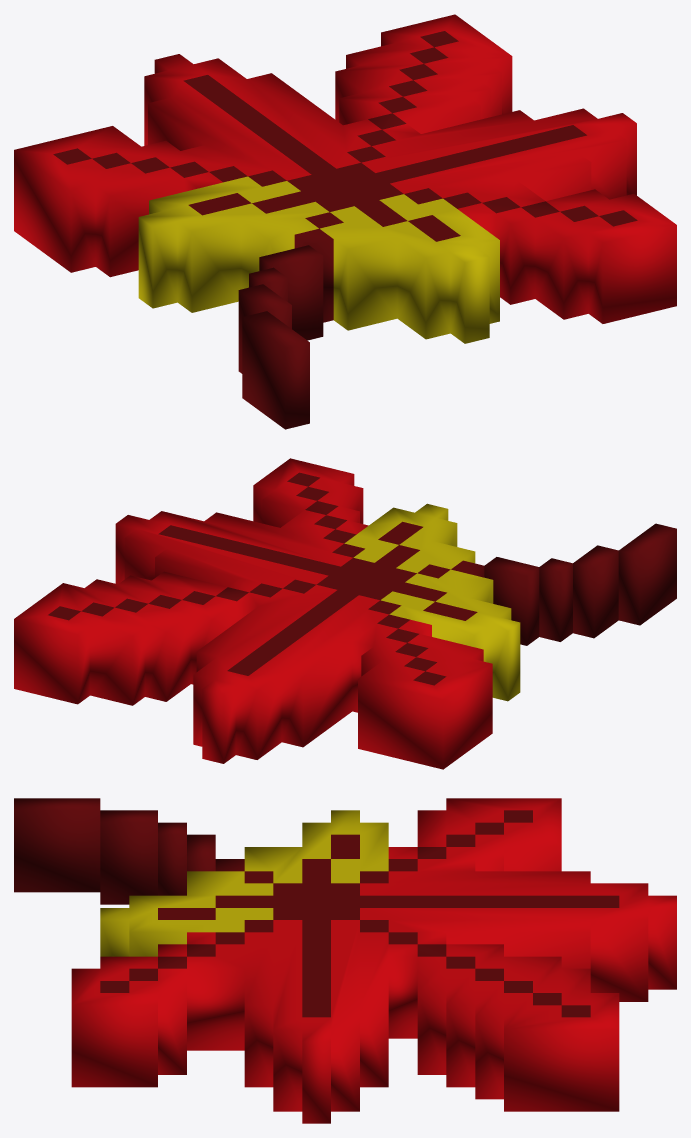
Rendered from FallenLeaves.fbx.
3 renders of one model, top to bottom at view 1: azimuth 30°, elevation 25°; view 2: azimuth 150°, elevation 25°; view 3: azimuth 270°, elevation 25°, orthographic. The views are drawn at different scales.
Visible parts, largest first — view 1: ObjObject; view 2: ObjObject; view 3: ObjObject.
Boxes of the visible parts, bbox=[...] form: ObjObject: bbox=[14, 14, 676, 429]; ObjObject: bbox=[14, 458, 676, 769]; ObjObject: bbox=[14, 798, 676, 1123].
Size of the model in its own units: 20.09 by 3.15 by 23.11.
